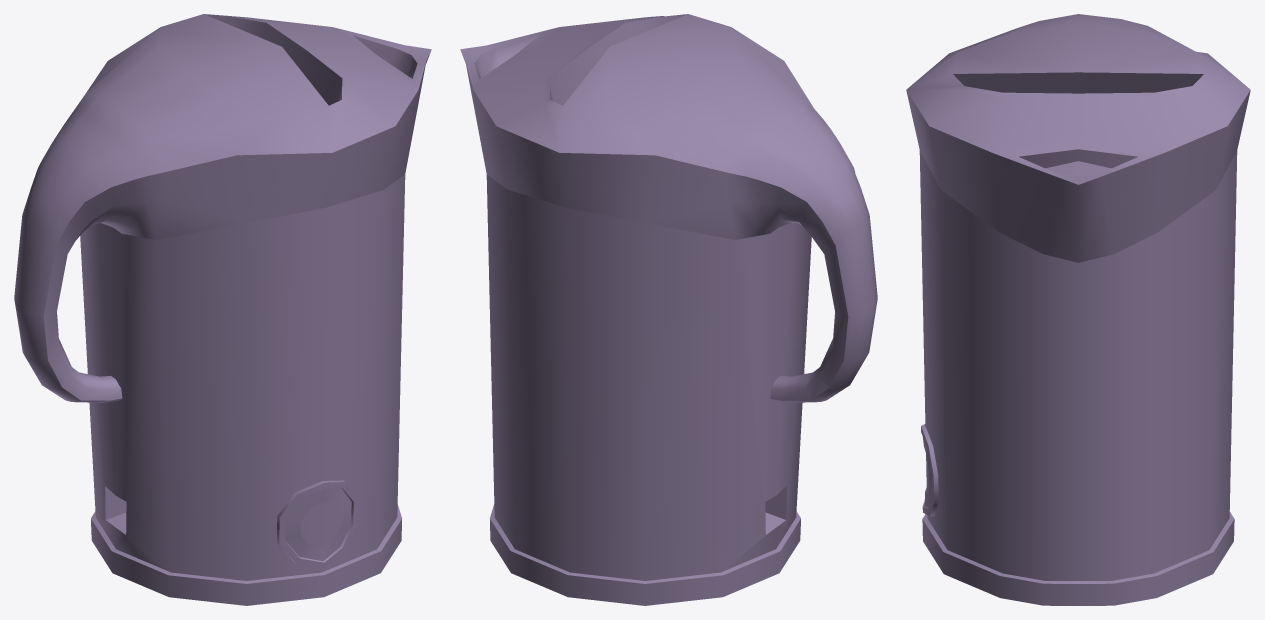
The model's file is PavaElectrica.fbx.
The picture shows the model from 3 angles, left to right: view 1: azimuth 30°, elevation 25°; view 2: azimuth 150°, elevation 25°; view 3: azimuth 270°, elevation 25°; orthographic projection.
Parts seen in each view (by area): view 1: PavaElectrica; view 2: PavaElectrica; view 3: PavaElectrica.
Part boxes in pixels (box(x1,y1,x2,y2)): PavaElectrica: box(14, 14, 431, 605); PavaElectrica: box(460, 14, 877, 605); PavaElectrica: box(906, 14, 1250, 605).
Bounding box in the file's own units: 0.2028 × 0.2275 × 0.1461.
